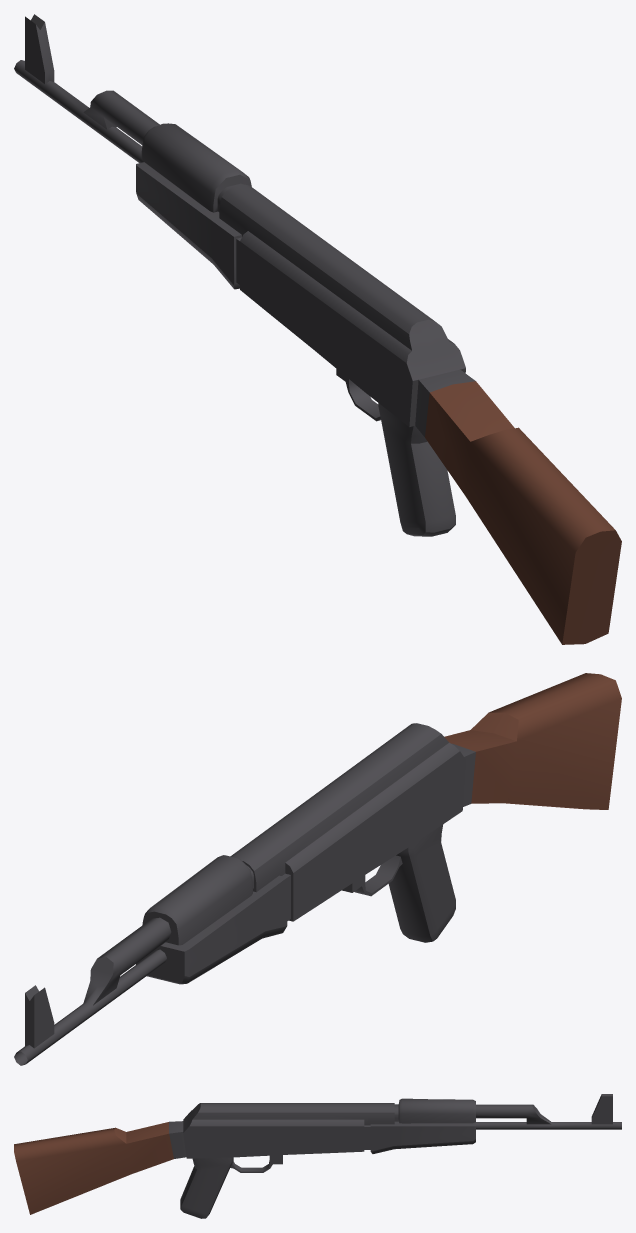
File: mox47_10.glb
The picture shows the model from 3 angles, top to bottom: view 1: azimuth 30°, elevation 25°; view 2: azimuth 150°, elevation 25°; view 3: azimuth 270°, elevation 25°; orthographic projection. The views are drawn at different scales.
Parts seen in each view (by area): view 1: gun; view 2: gun; view 3: gun.
Boxes of the visible parts, <box> form: gun: <box>14,14,621,644</box>; gun: <box>14,673,621,1065</box>; gun: <box>14,1094,621,1218</box>.
Bounding box in the file's own units: 0.046 × 0.191 × 0.866.
